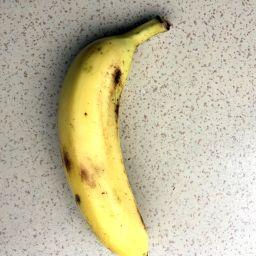Banana Ripe: (52, 29, 181, 256)
